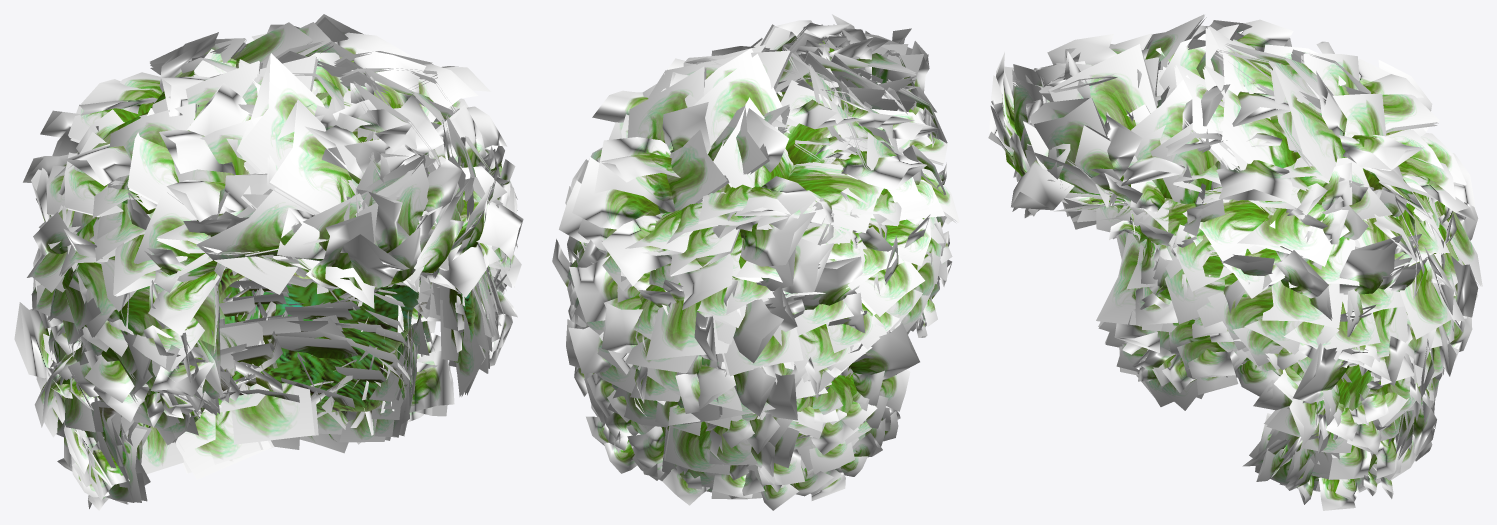
File: angelhair.fbx
3 renders of one model, left to right at view 1: azimuth 30°, elevation 25°; view 2: azimuth 150°, elevation 25°; view 3: azimuth 270°, elevation 25°, orthographic. The views are drawn at different scales.
Parts seen in each view (by area): view 1: HAIR_Angel, HAIRcap_Angel; view 2: HAIR_Angel; view 3: HAIR_Angel.
Part boxes in pixels (x1,y1,x2,y2): HAIR_Angel: [14, 14, 523, 510]; HAIRcap_Angel: [193, 268, 475, 422]; HAIR_Angel: [552, 14, 959, 510]; HAIR_Angel: [988, 14, 1482, 510].
Bounding box in the file's own units: 27.97 × 29.13 × 30.04.
Materials: 2 (2 with a texture image).
